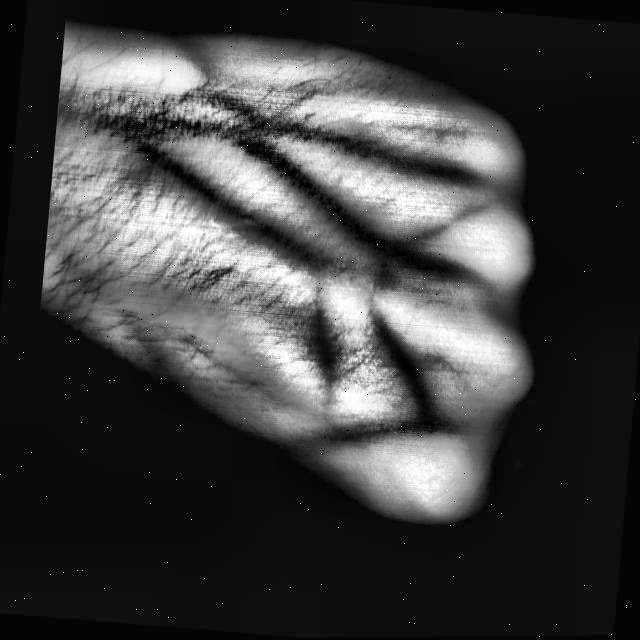Vein: (139, 140, 323, 269), (228, 126, 388, 252), (210, 110, 395, 169)
